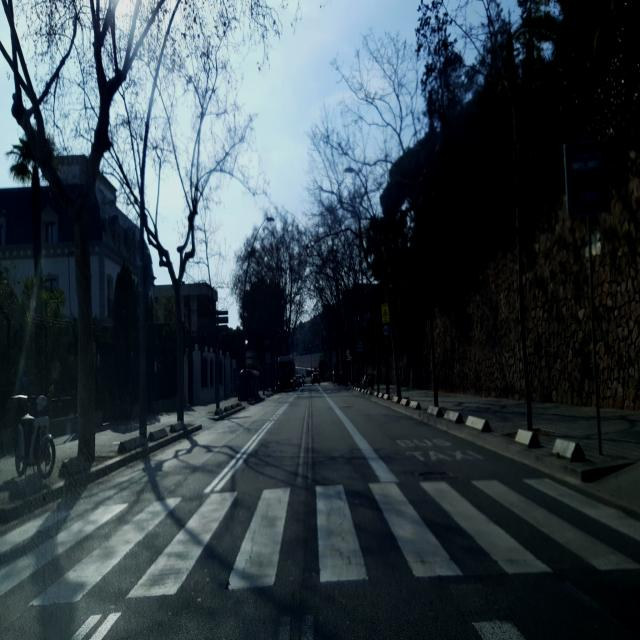bike: (14, 395, 57, 479)
car: (295, 370, 304, 388), (311, 370, 321, 386)
